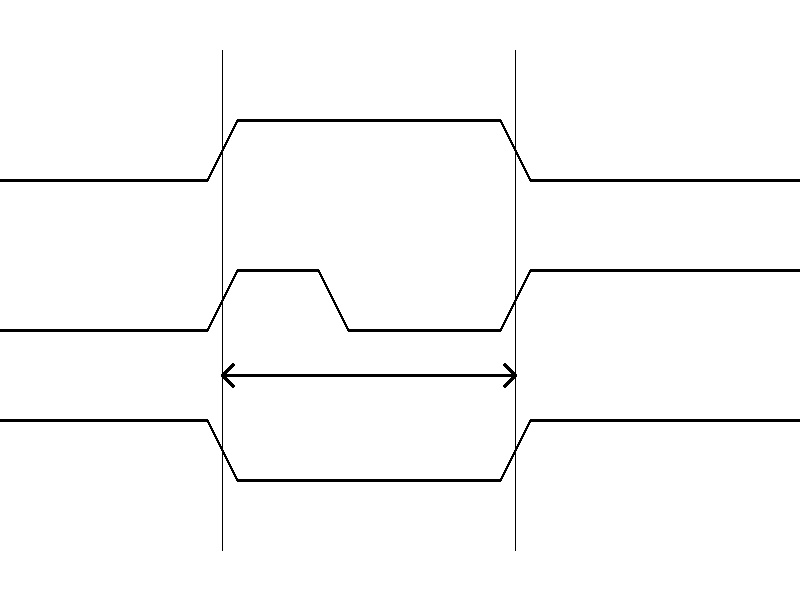double_arrow: (222, 360, 515, 390)
